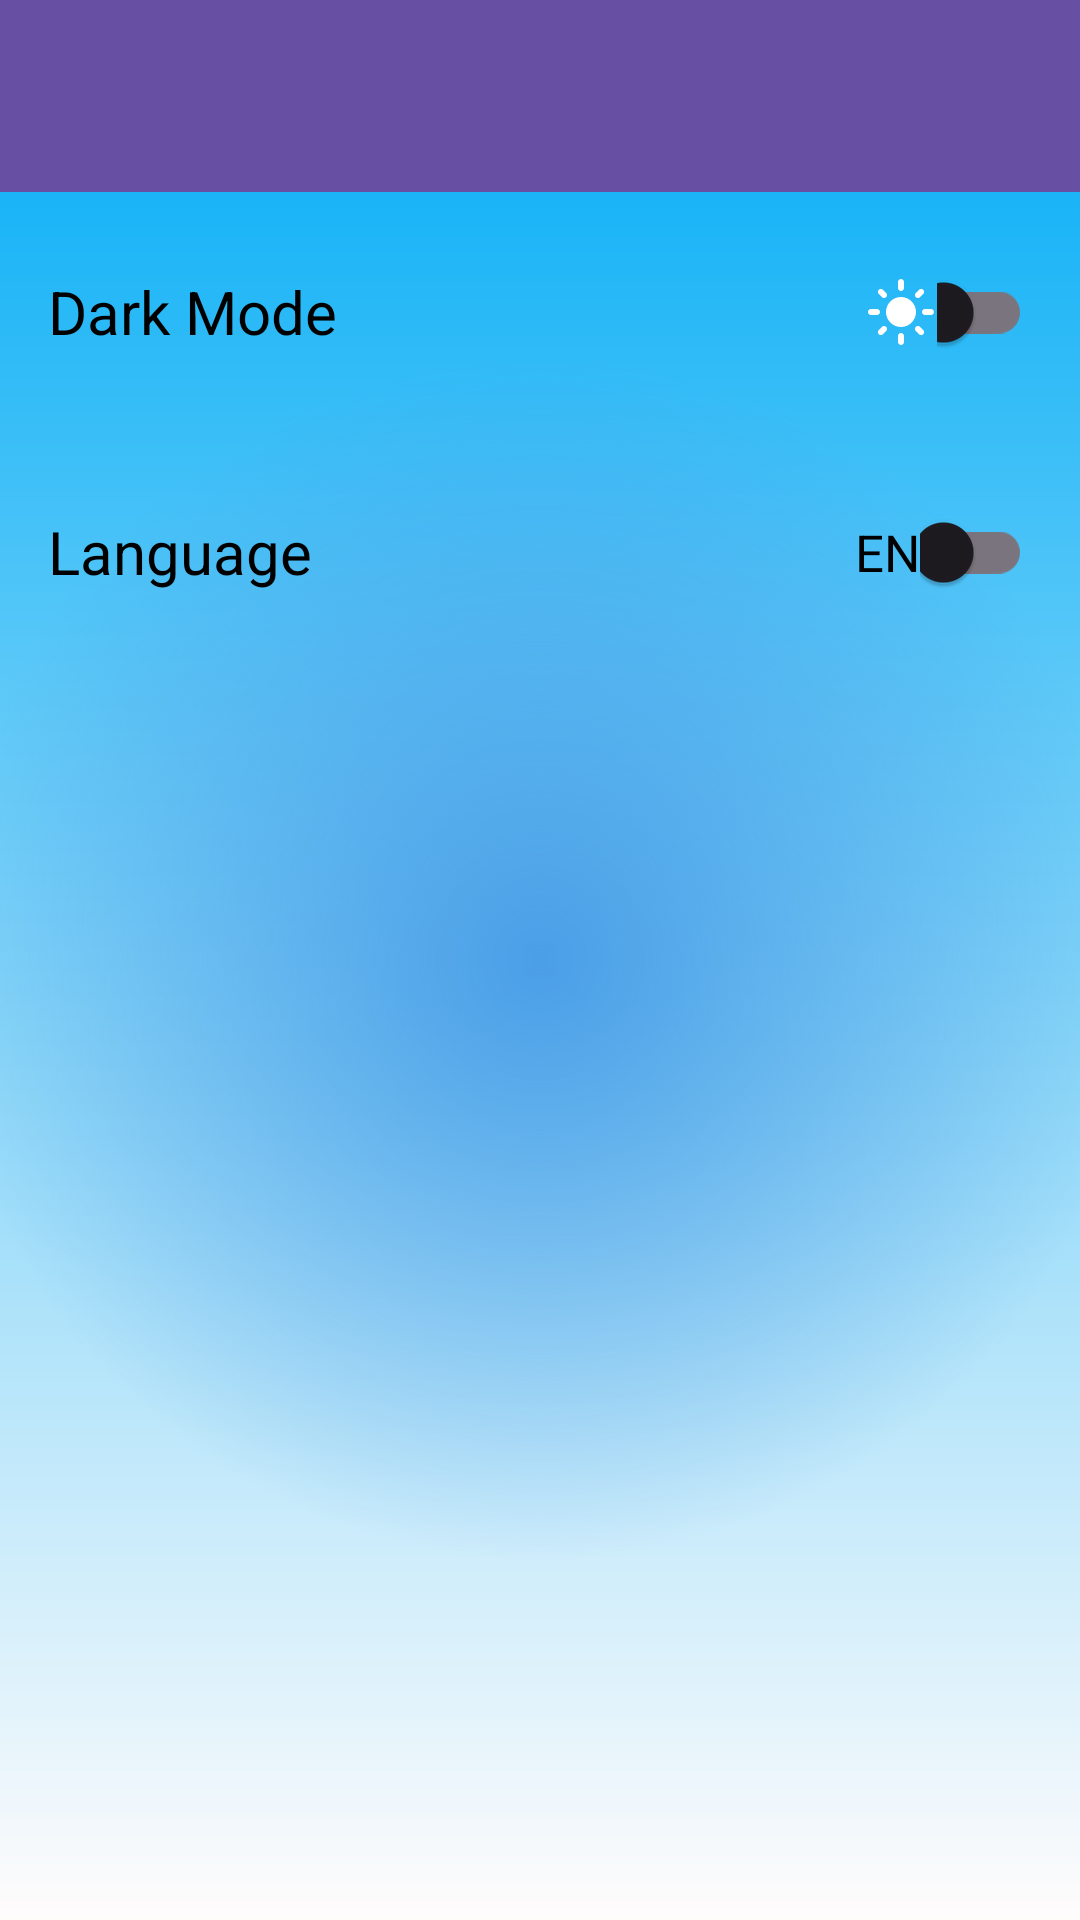

Screen size 1080x1920. Icon name, then its box in pixels as (x1, y1, x2, y2):
Light Mode: (868, 279, 934, 345)
